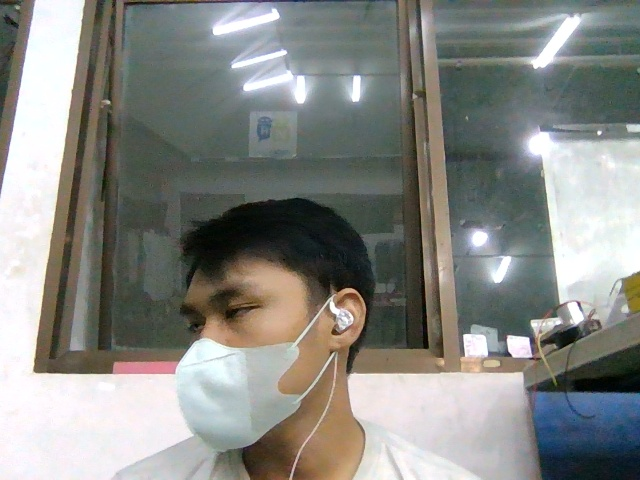mask_on: (174, 338, 328, 451)
